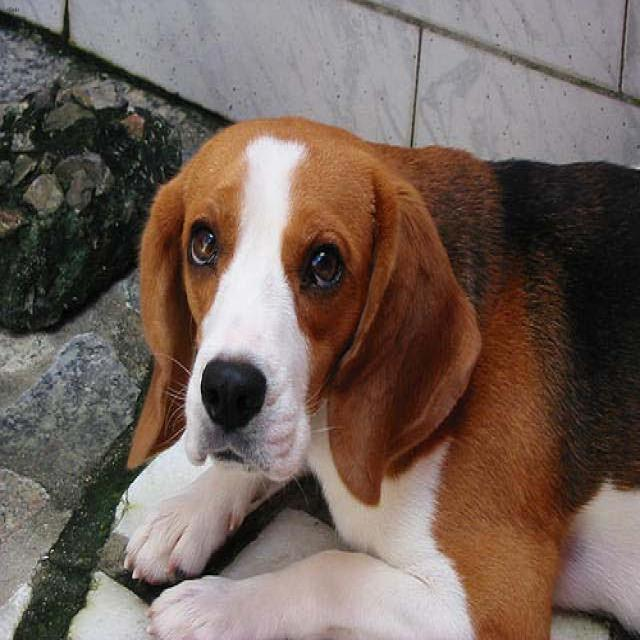dog-beagle: (115, 106, 637, 637)
